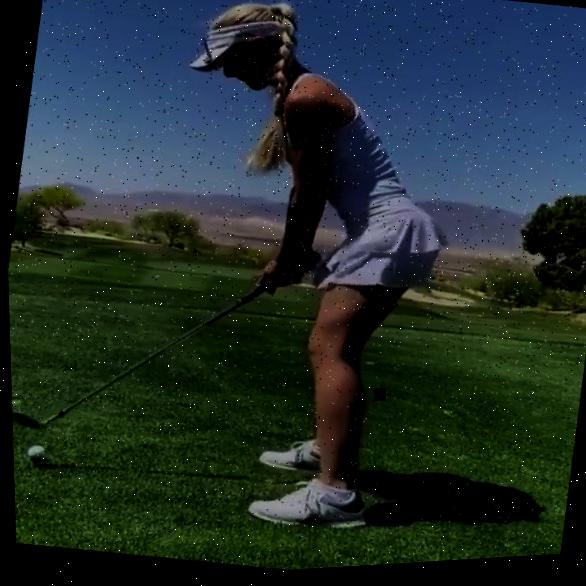ClubHead: (9, 406, 41, 432)
GolfBall: (27, 444, 45, 460)
